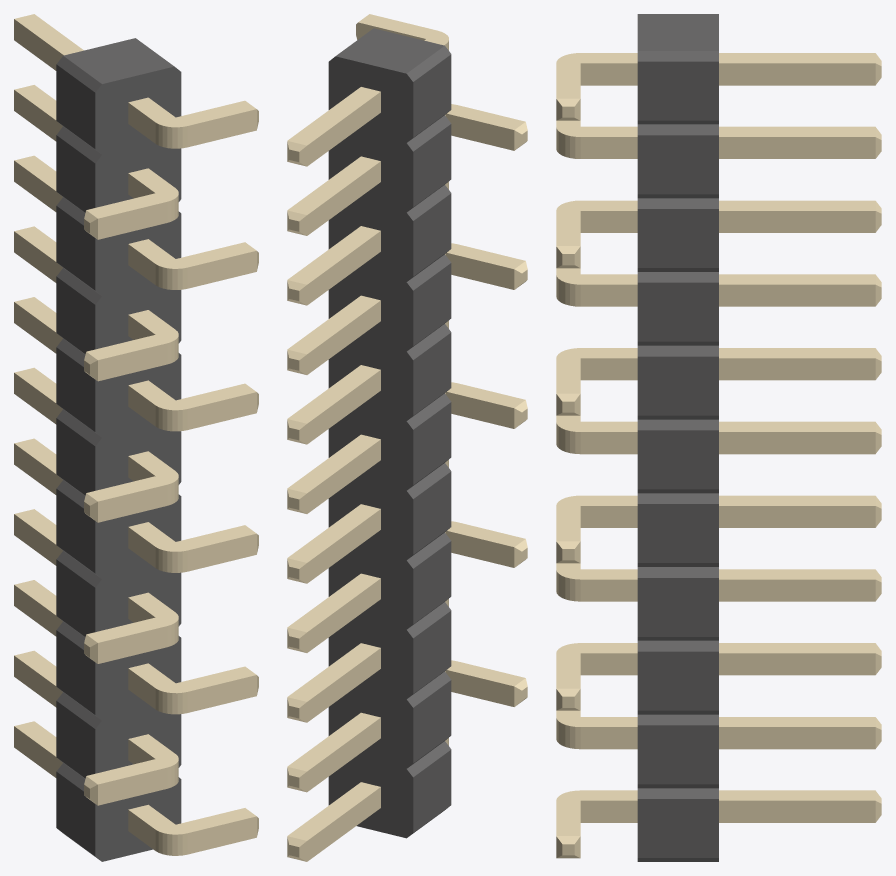
The model's file is PinHeader_1x11_P1.00mm_Vertical_SMD_Pin1Left.glb.
3 renders of one model, left to right at view 1: azimuth 30°, elevation 25°; view 2: azimuth 150°, elevation 25°; view 3: azimuth 270°, elevation 25°, orthographic. The views are drawn at different scales.
Parts seen in each view (by area): view 1: Shape_IndexedFaceSet.003, Shape_IndexedFaceSet.001, Shape_IndexedFaceSet.007, Shape_IndexedFaceSet.019, Shape_IndexedFaceSet.043, Shape_IndexedFaceSet.055, Shape_IndexedFaceSet.067, Shape_IndexedFaceSet.031, Shape_IndexedFaceSet.061, Shape_IndexedFaceSet.025, Shape_IndexedFaceSet.013, Shape_IndexedFaceSet.049 (+63 smaller); view 2: Shape_IndexedFaceSet.004, Shape_IndexedFaceSet.001, Shape_IndexedFaceSet.007, Shape_IndexedFaceSet.013, Shape_IndexedFaceSet.019, Shape_IndexedFaceSet.025, Shape_IndexedFaceSet.055, Shape_IndexedFaceSet.061, Shape_IndexedFaceSet.031, Shape_IndexedFaceSet.043, Shape_IndexedFaceSet.049, Shape_IndexedFaceSet.067 (+45 smaller); view 3: Shape_IndexedFaceSet.002, Shape_IndexedFaceSet.010, Shape_IndexedFaceSet.022, Shape_IndexedFaceSet.028, Shape_IndexedFaceSet.034, Shape_IndexedFaceSet.052, Shape_IndexedFaceSet.058, Shape_IndexedFaceSet.016, Shape_IndexedFaceSet.040, Shape_IndexedFaceSet.046, Shape_IndexedFaceSet.064, Shape_IndexedFaceSet.117 (+55 smaller).
Part boxes in pixels (x1,y1,x2,y2): Shape_IndexedFaceSet.003: [95, 66, 181, 861]; Shape_IndexedFaceSet.001: [63, 38, 174, 83]; Shape_IndexedFaceSet.007: [56, 64, 95, 148]; Shape_IndexedFaceSet.019: [56, 206, 95, 290]; Shape_IndexedFaceSet.043: [56, 489, 95, 573]; Shape_IndexedFaceSet.055: [56, 630, 95, 714]; Shape_IndexedFaceSet.067: [56, 771, 95, 855]; Shape_IndexedFaceSet.031: [56, 347, 95, 431]; Shape_IndexedFaceSet.061: [56, 701, 95, 778]; Shape_IndexedFaceSet.025: [56, 276, 95, 353]; Shape_IndexedFaceSet.013: [56, 135, 95, 212]; Shape_IndexedFaceSet.049: [56, 559, 95, 636]; Shape_IndexedFaceSet.004: [328, 56, 413, 838]; Shape_IndexedFaceSet.001: [336, 28, 444, 73]; Shape_IndexedFaceSet.007: [413, 54, 451, 137]; Shape_IndexedFaceSet.013: [413, 124, 451, 206]; Shape_IndexedFaceSet.019: [413, 193, 451, 276]; Shape_IndexedFaceSet.025: [413, 263, 451, 345]; Shape_IndexedFaceSet.055: [413, 611, 451, 693]; Shape_IndexedFaceSet.061: [413, 680, 451, 762]; Shape_IndexedFaceSet.031: [413, 333, 451, 415]; Shape_IndexedFaceSet.043: [413, 472, 451, 554]; Shape_IndexedFaceSet.049: [413, 541, 451, 623]; Shape_IndexedFaceSet.067: [413, 750, 451, 832]; Shape_IndexedFaceSet.002: [637, 61, 718, 120]; Shape_IndexedFaceSet.010: [637, 135, 718, 194]; Shape_IndexedFaceSet.022: [637, 282, 718, 341]; Shape_IndexedFaceSet.028: [637, 356, 718, 415]; Shape_IndexedFaceSet.034: [637, 430, 718, 489]; Shape_IndexedFaceSet.052: [637, 651, 718, 710]; Shape_IndexedFaceSet.058: [637, 725, 718, 784]; Shape_IndexedFaceSet.016: [637, 209, 718, 267]; Shape_IndexedFaceSet.040: [637, 504, 718, 562]; Shape_IndexedFaceSet.046: [637, 578, 718, 636]; Shape_IndexedFaceSet.064: [637, 799, 718, 857]; Shape_IndexedFaceSet.117: [719, 358, 875, 380].
Size of the model in its own units: 0.984 by 4.33 by 1.58.
